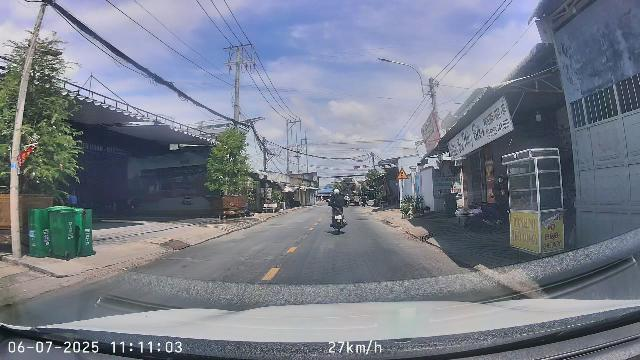209-giao-nhau-co-tin-hieu-den: (396, 168, 409, 180)
